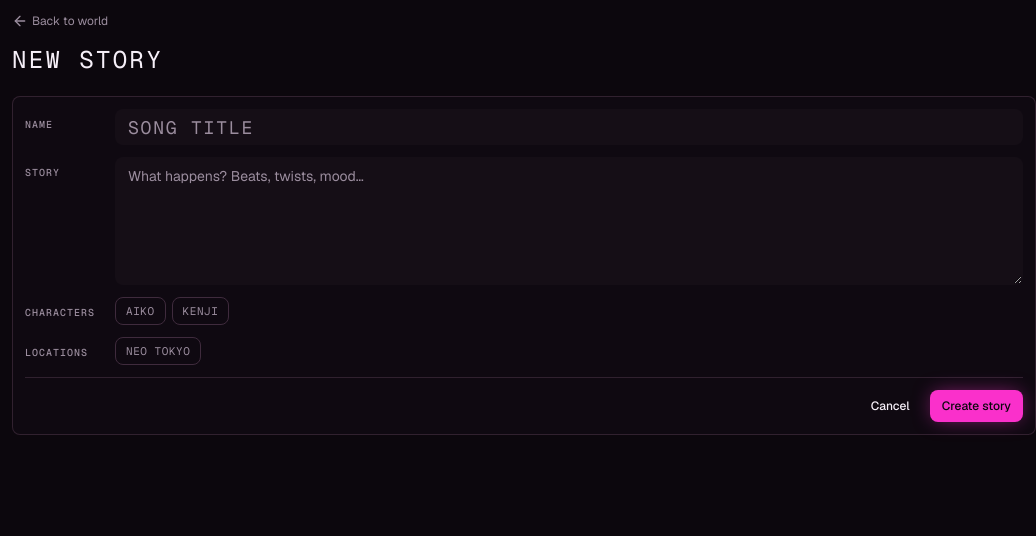
Test: StoryForm › Create Mode › displays validation error when submitting empty form
Click the button "Create story" at coordinates (976, 406), box [930,390,1023,422]
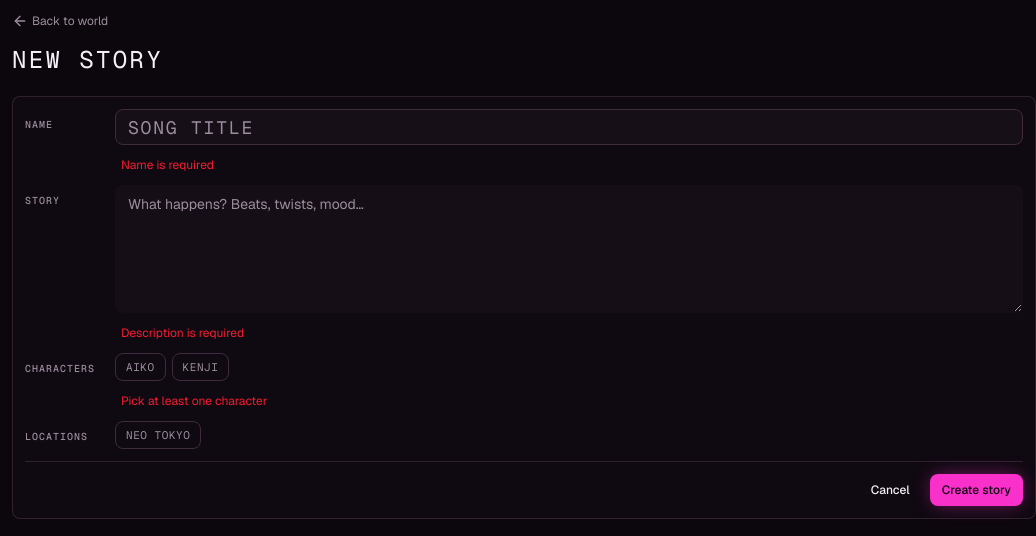
Now the text "Name is required" is shown, box [121,157,214,173]
Now the text "Description is required" is shown, box [121,325,244,341]
Now the text "Pick at least one character" is shown, box [121,393,267,409]
